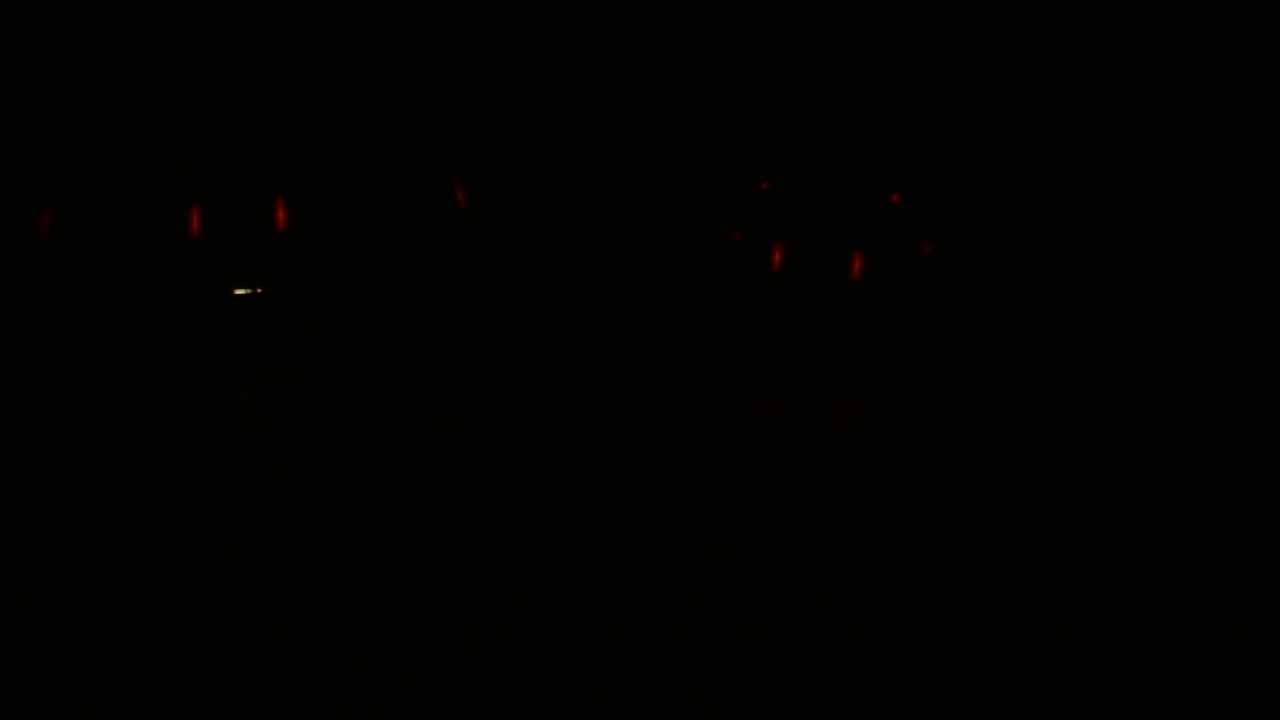pair1: (181, 194, 301, 248)
pair2: (759, 238, 875, 291)
